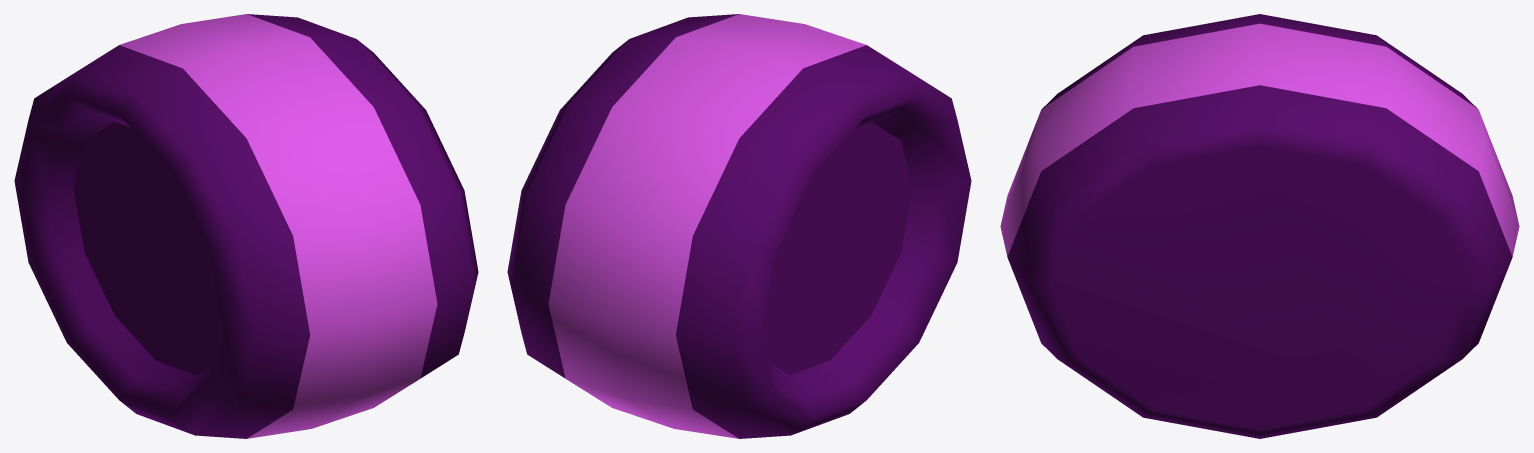
File: NLS_DUO Sleeve (Glove).fbx
The picture shows the model from 3 angles, left to right: view 1: azimuth 30°, elevation 25°; view 2: azimuth 150°, elevation 25°; view 3: azimuth 270°, elevation 25°; orthographic projection.
Parts seen in each view (by area): view 1: NLS_DUO Sleeve (Glove); view 2: NLS_DUO Sleeve (Glove); view 3: NLS_DUO Sleeve (Glove).
Boxes of the visible parts, x1,y1,x2,y2 form: NLS_DUO Sleeve (Glove): (14, 14, 478, 438); NLS_DUO Sleeve (Glove): (507, 14, 971, 438); NLS_DUO Sleeve (Glove): (1000, 14, 1519, 438).
Size of the model in its own units: 14.79 by 19.8 by 26.34.
